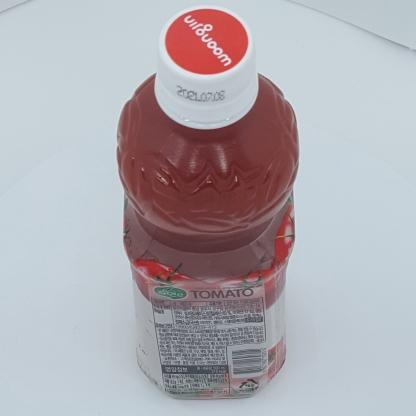--------500ML: (117, 5, 299, 401)
